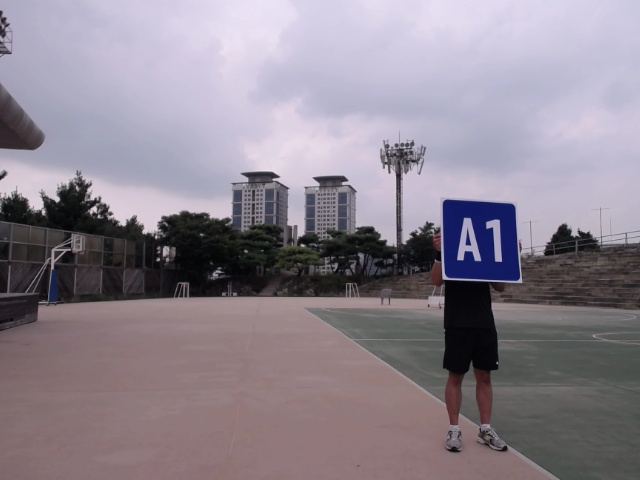delivery_a1: (440, 198, 522, 284)
